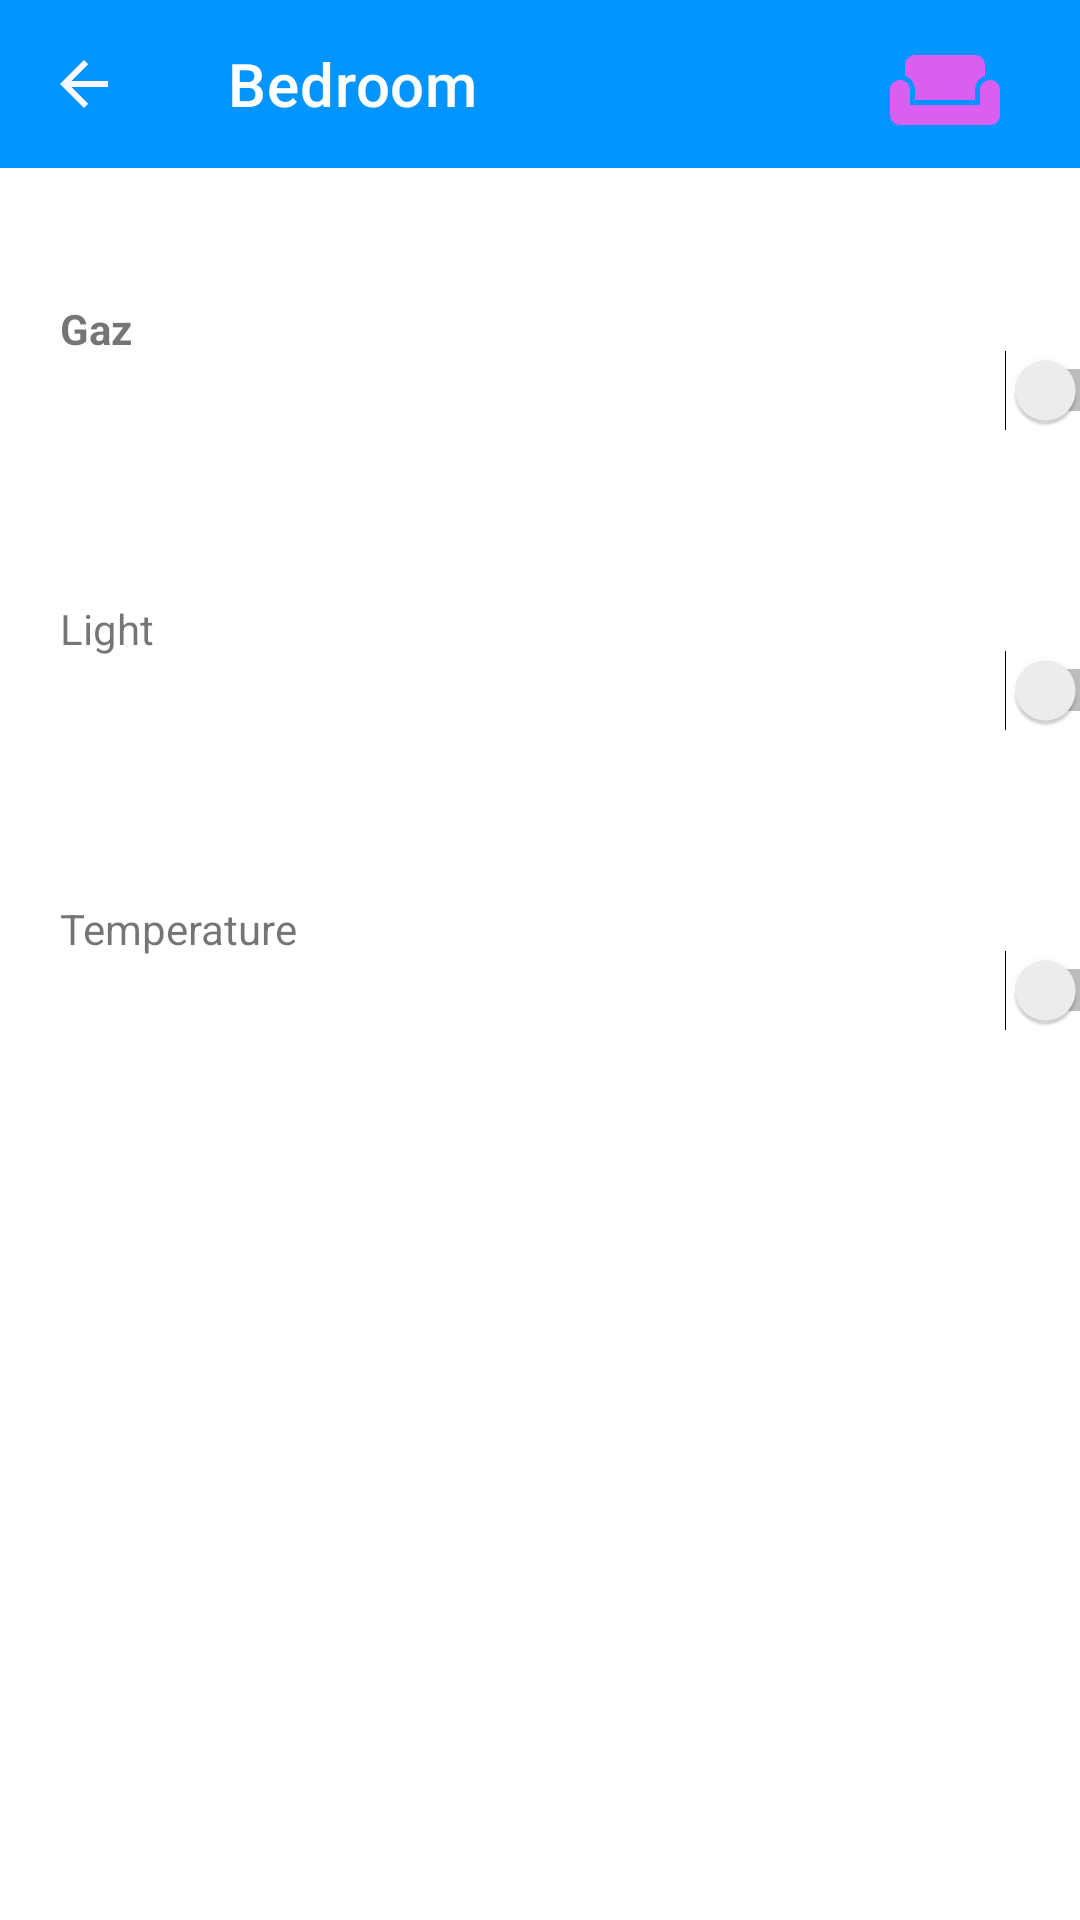

Where to tap for icons on this 1080 × 1920 app screen, as point (x, y):
weekend: point (945, 90)
